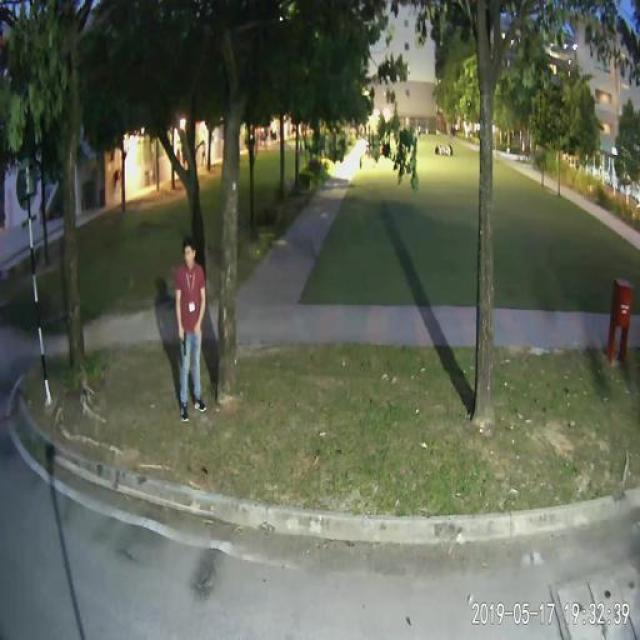Gun: (170, 322, 196, 362)
